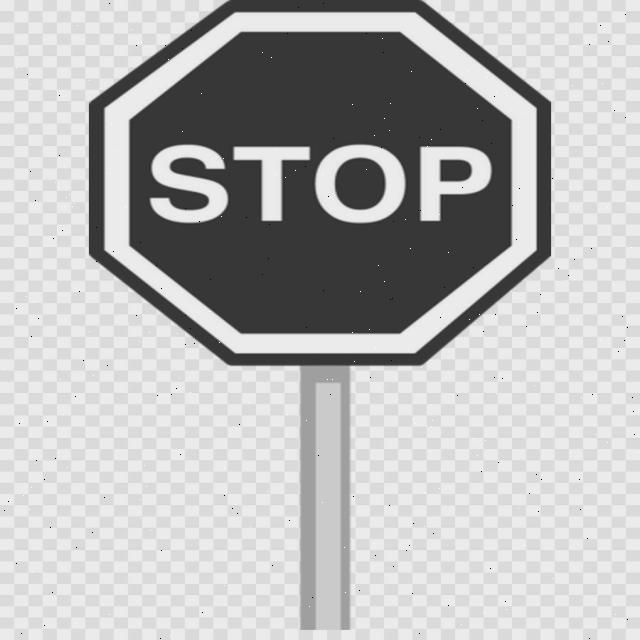Stop-sign: (72, 0, 560, 374)
